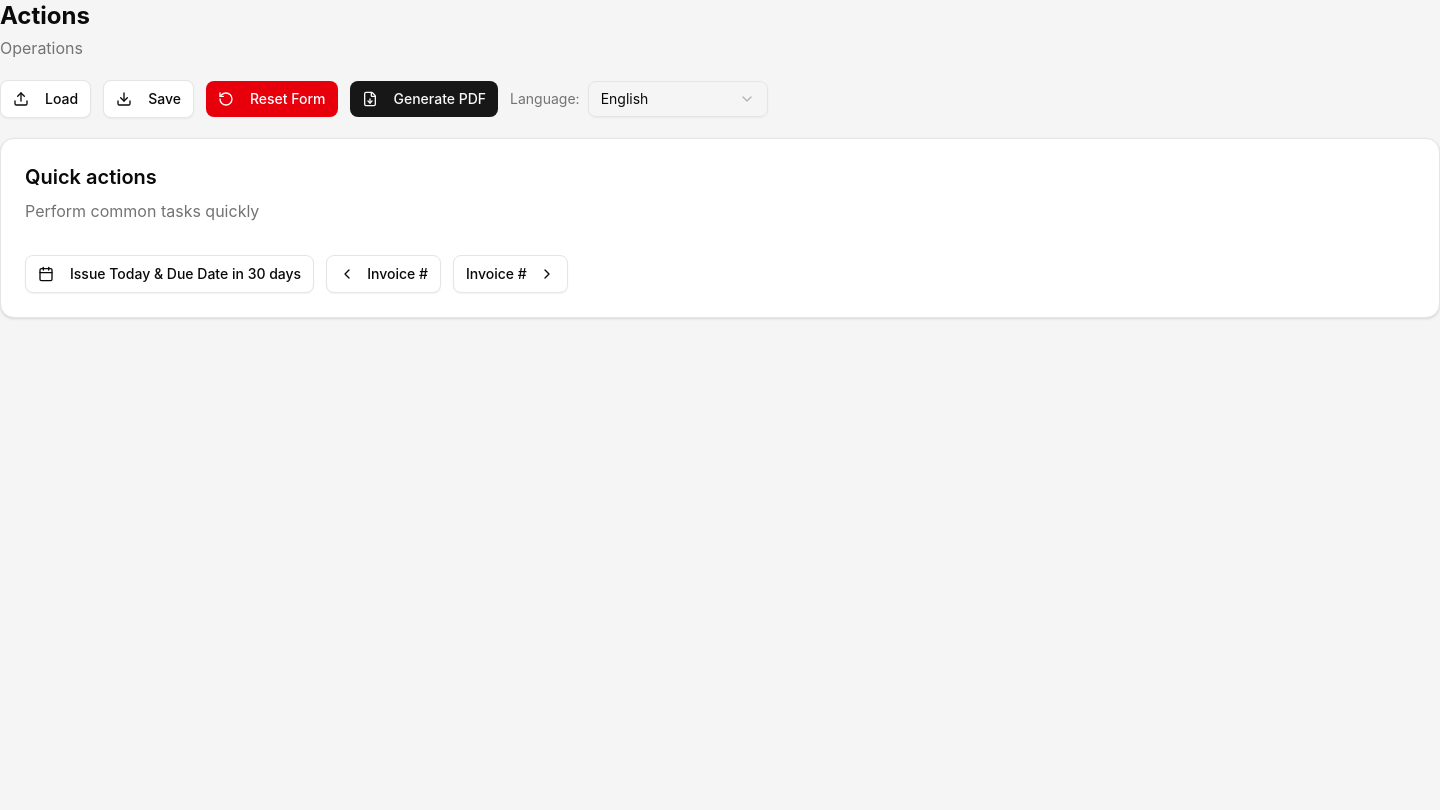
it: Actions › shows an error dialog when Generate PDF is clicked with an invalid invoice
This screenshot has width=1440, height=810.
Note: Default invoice has empty sender name, receiver name, paymentTerms → validation fails
Click the button "Generate PDF". click: [424, 99]
box: [350,81,498,117]
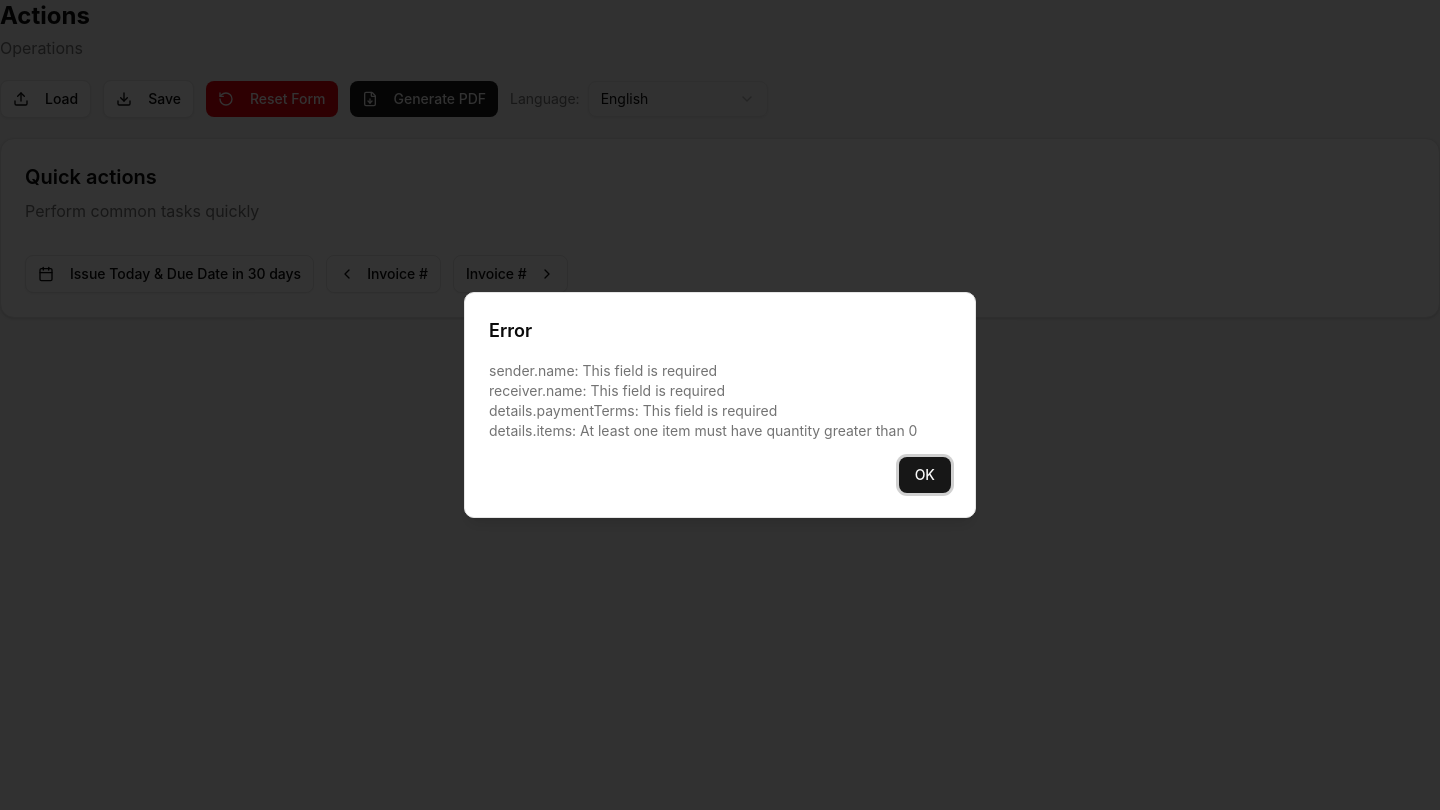
Check: the dialog is shown, box [464,292,976,518]
